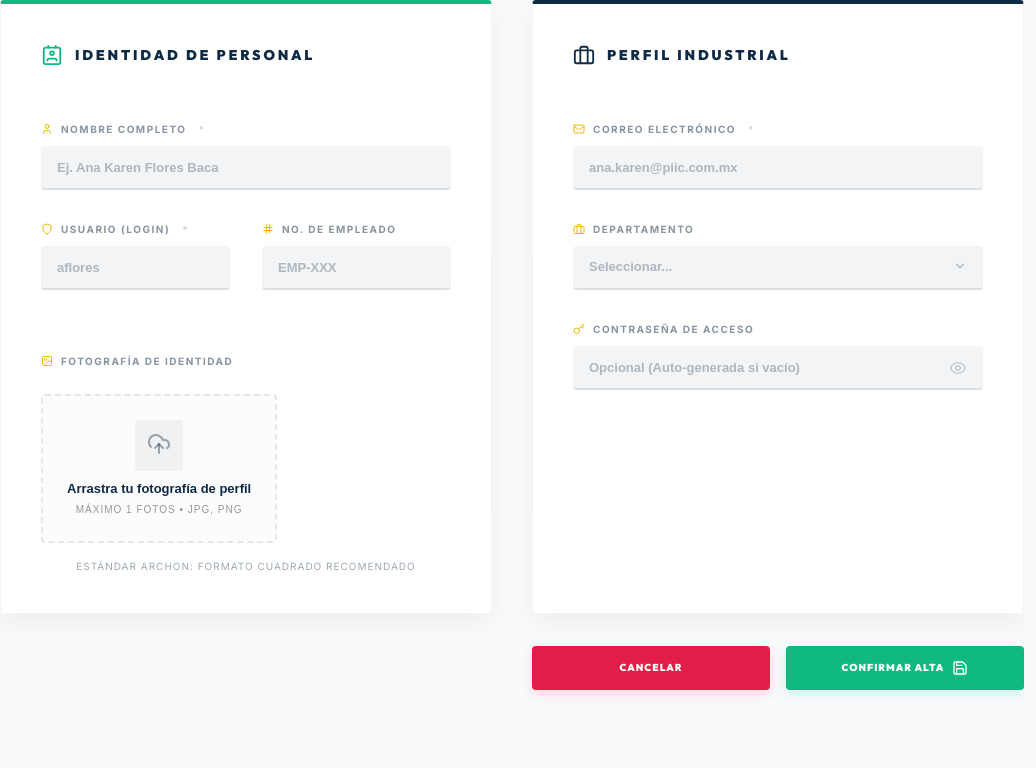
Test: UserRegistrationForm (Sentinel Identity) › updates department via the ArchonSelect dropdown
Click the button "Seleccionar...": (631, 267) top-left (573, 246), bottom-right (983, 290)
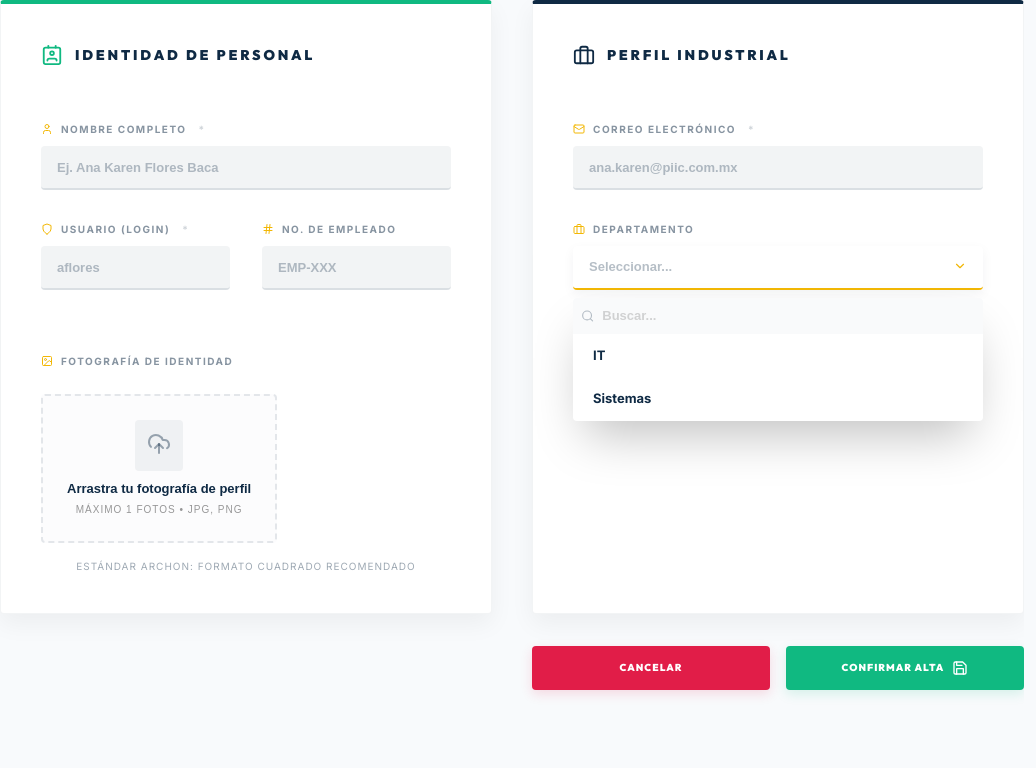
Click the option "IT": (599, 354) top-left (593, 346), bottom-right (605, 362)
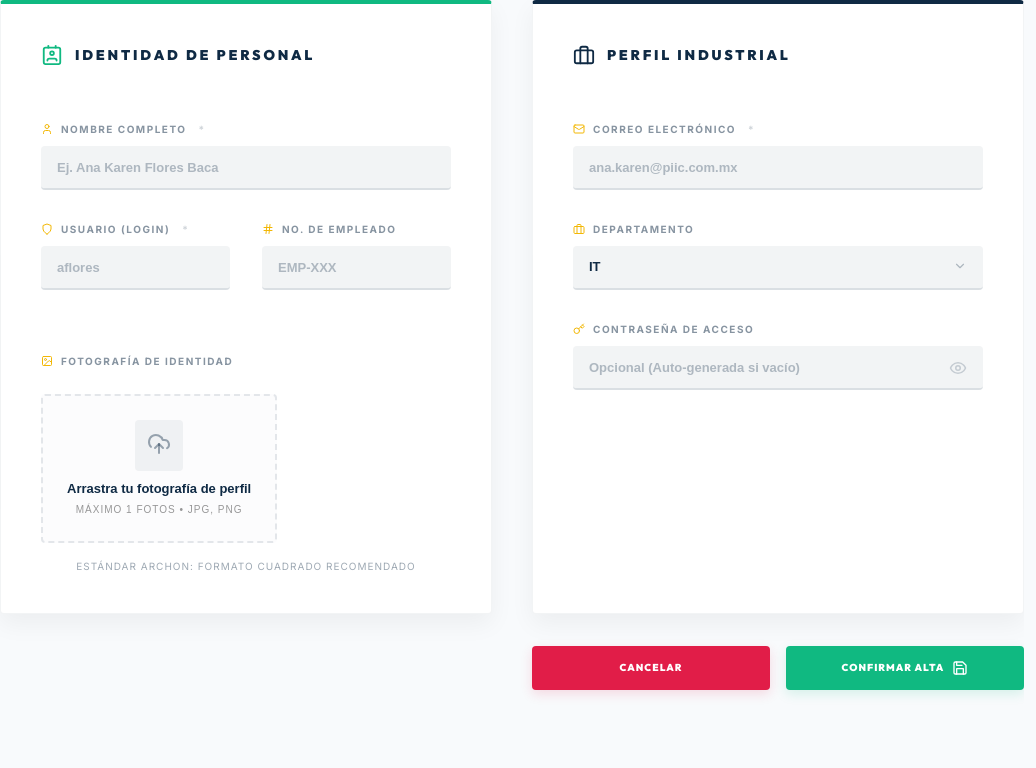
Check: the text "IT" is shown, box top-left (589, 257), bottom-right (601, 277)
Check: the button "Seleccionar..." is gone
